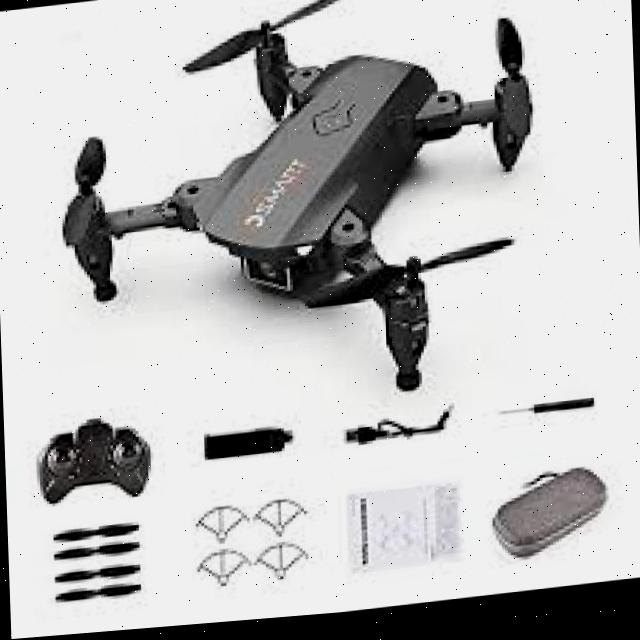drone: (32, 0, 563, 430)
